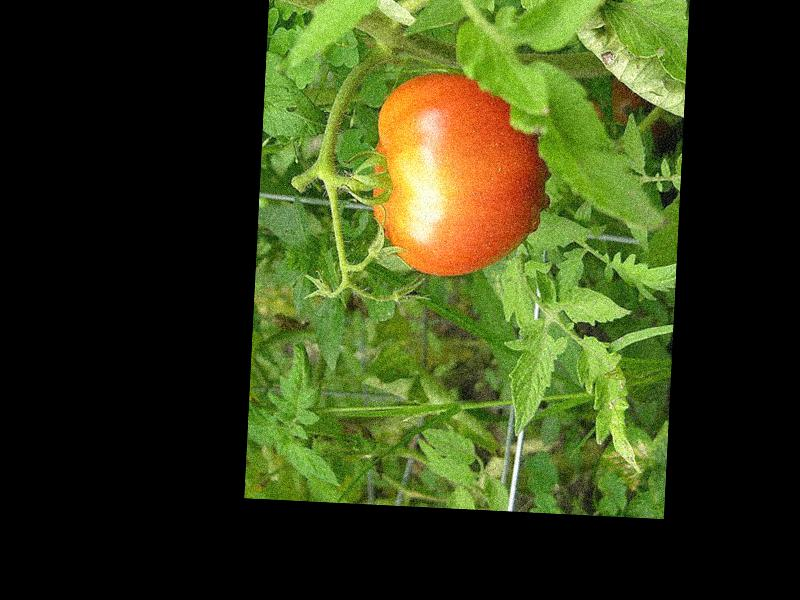Tomato: (367, 71, 547, 278)
